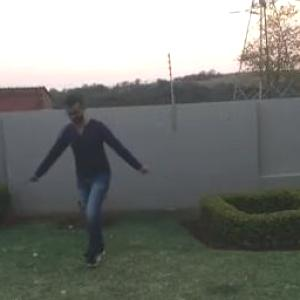land: (29, 84, 148, 258)
